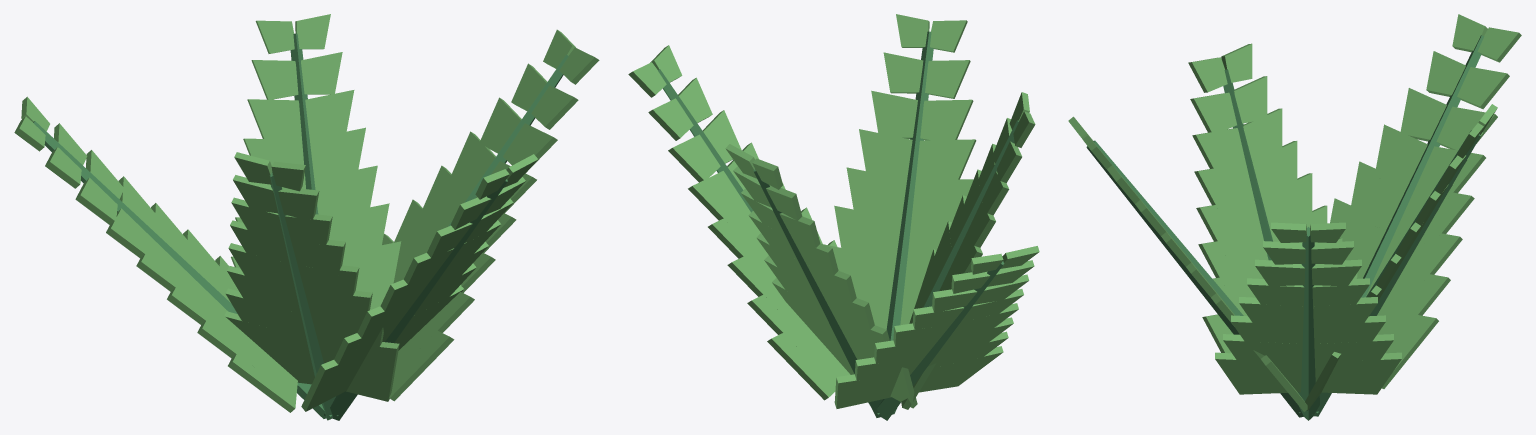
File: deco_fern.obj
3 renders of one model, left to right at view 1: azimuth 30°, elevation 25°; view 2: azimuth 150°, elevation 25°; view 3: azimuth 270°, elevation 25°, orthographic. The views are drawn at different scales.
Visible parts, largest first — view 1: deco_fern; view 2: deco_fern; view 3: deco_fern.
Boxes of the visible parts, left/top/right/bottom form: deco_fern: left=14, top=14, right=599, bottom=420; deco_fern: left=628, top=14, right=1039, bottom=420; deco_fern: left=1068, top=14, right=1521, bottom=420.
Bounding box in the file's own units: 0.1188 × 0.0758 × 0.0967.
1 material, 1 textured.
